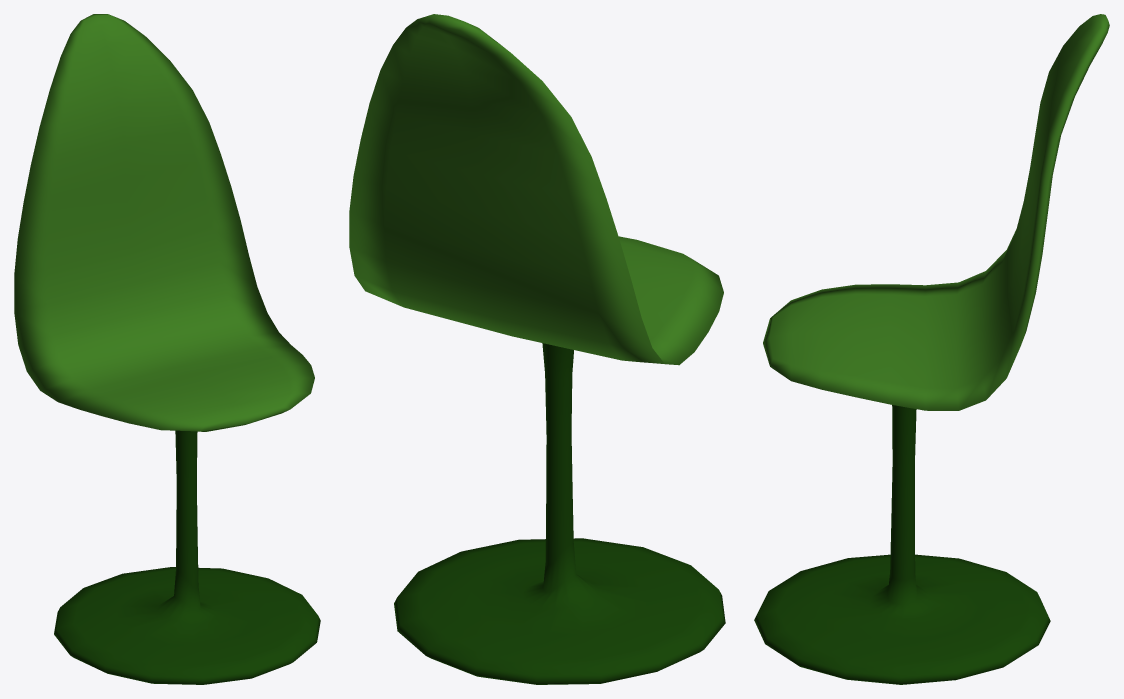
The model's file is Leaf_chair.fbx.
3 views of the same model, side by side, from view 1: azimuth 30°, elevation 25°; view 2: azimuth 150°, elevation 25°; view 3: azimuth 270°, elevation 25° (orthographic). The views are drawn at different scales.
Parts seen in each view (by area): view 1: Leaf_chair; view 2: Leaf_chair; view 3: Leaf_chair.
Part boxes in pixels (x1,y1,x2,y2): Leaf_chair: (14, 14, 320, 684); Leaf_chair: (349, 14, 725, 684); Leaf_chair: (754, 14, 1109, 684).
Bounding box in the file's own units: 39.63 × 86.68 × 46.02.
